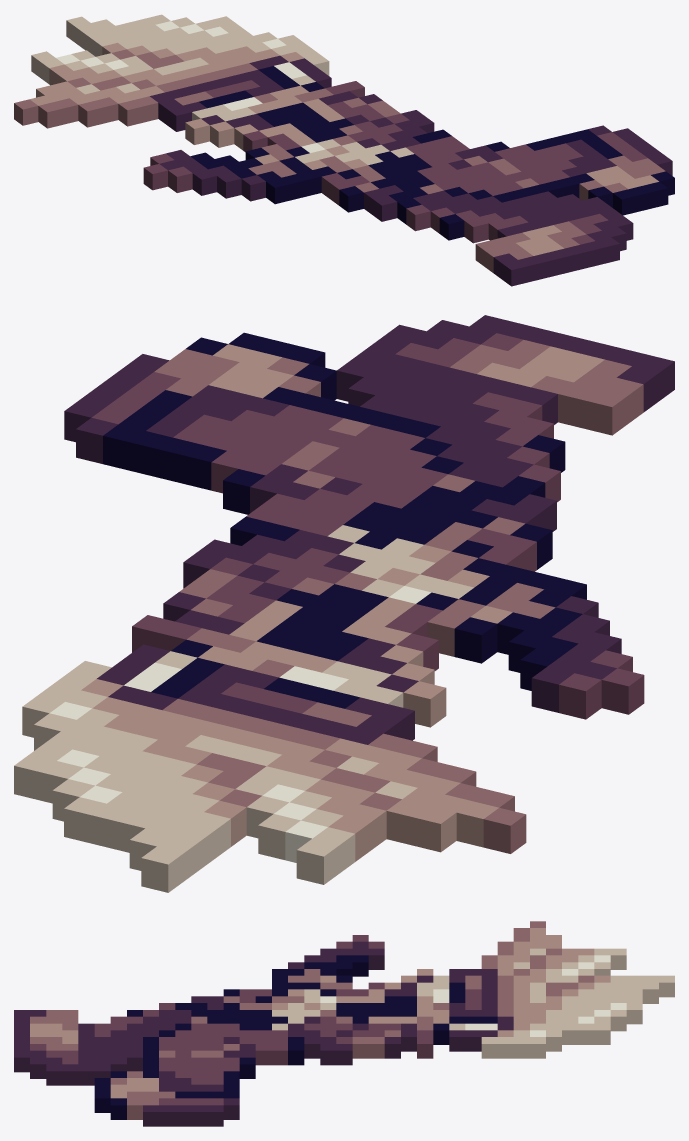
Rendered from RunLeft3.obj.
3 renders of one model, top to bottom at view 1: azimuth 30°, elevation 25°; view 2: azimuth 150°, elevation 25°; view 3: azimuth 270°, elevation 25°, orthographic. The views are drawn at different scales.
Size of the model in its own units: 2.8 by 0.1 by 4.1.
1 material, 1 textured.
